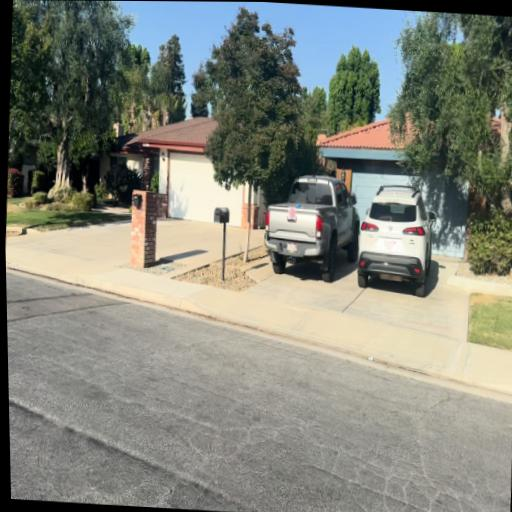bullseye: (289, 207, 296, 219)
